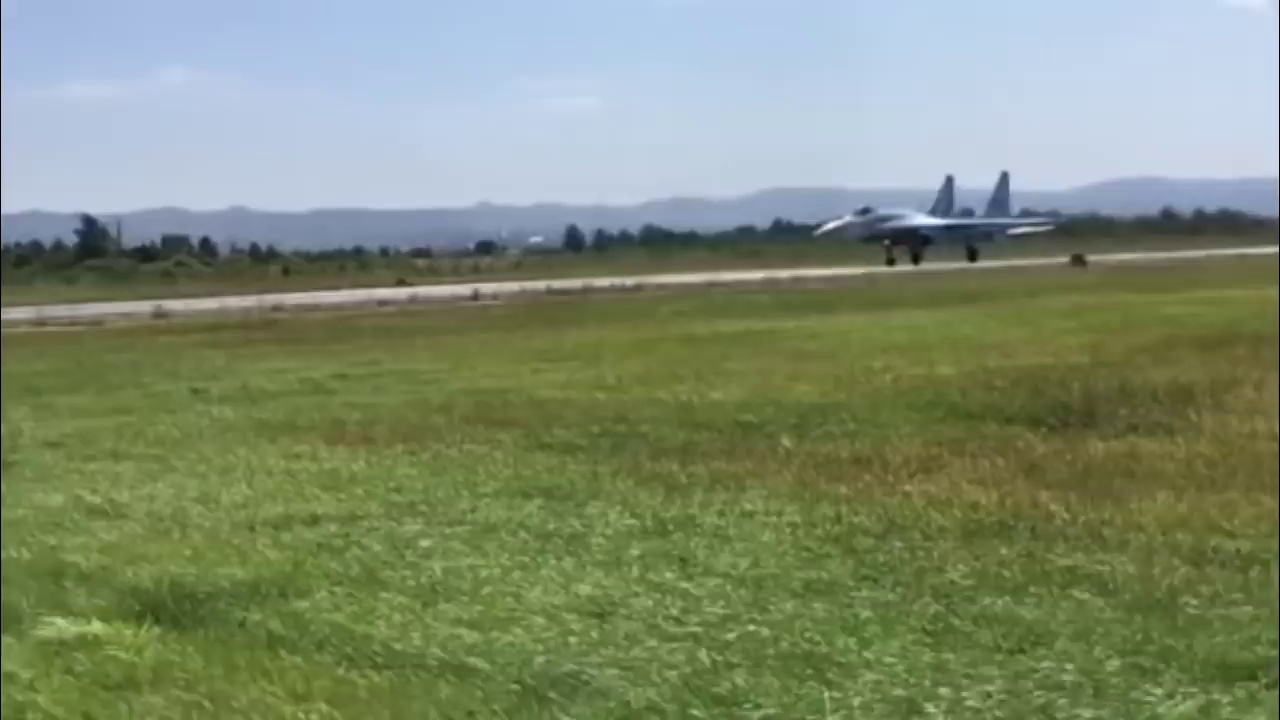Su35: (806, 163, 1073, 280)
